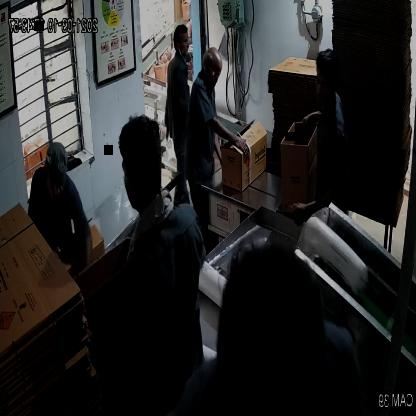no_glove: (288, 182, 350, 232), (204, 120, 251, 163)
